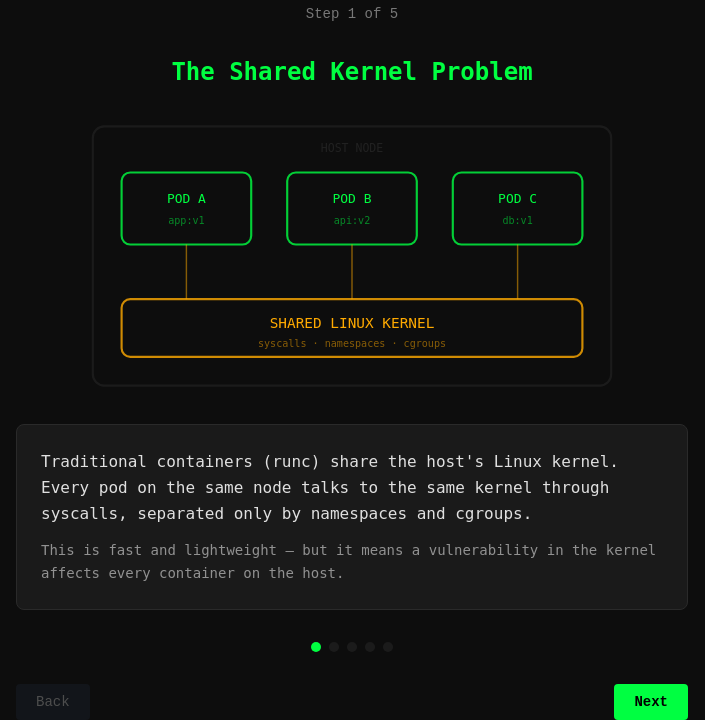
KataDemo page › goes back on Back click
(page scrolled)
Click the button "Next" at coordinates (651, 702), box [614,684,688,719]
(page scrolled)
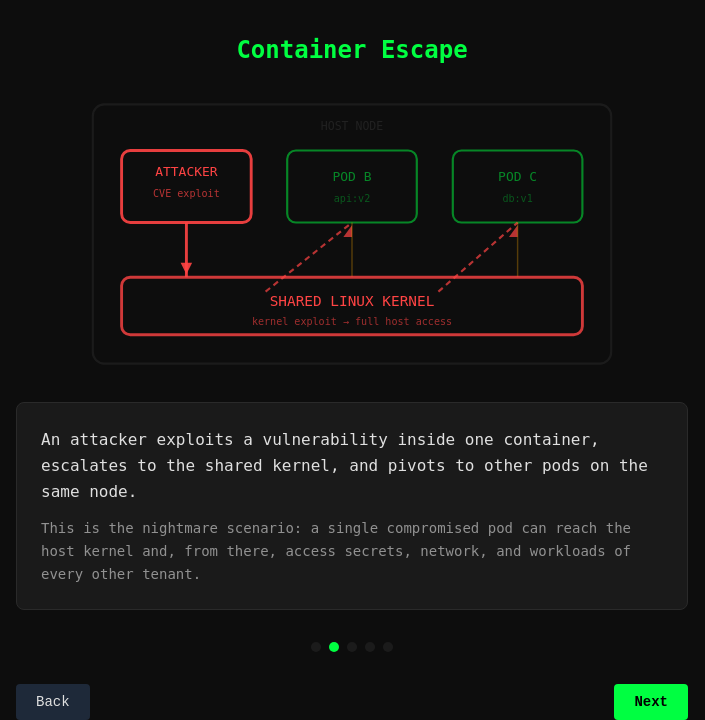
Check: the heading "Container Escape" is shown, box [236,36,468,64]
Click the button "Back" at coordinates (53, 702), box [16,684,90,719]
(page scrolled)
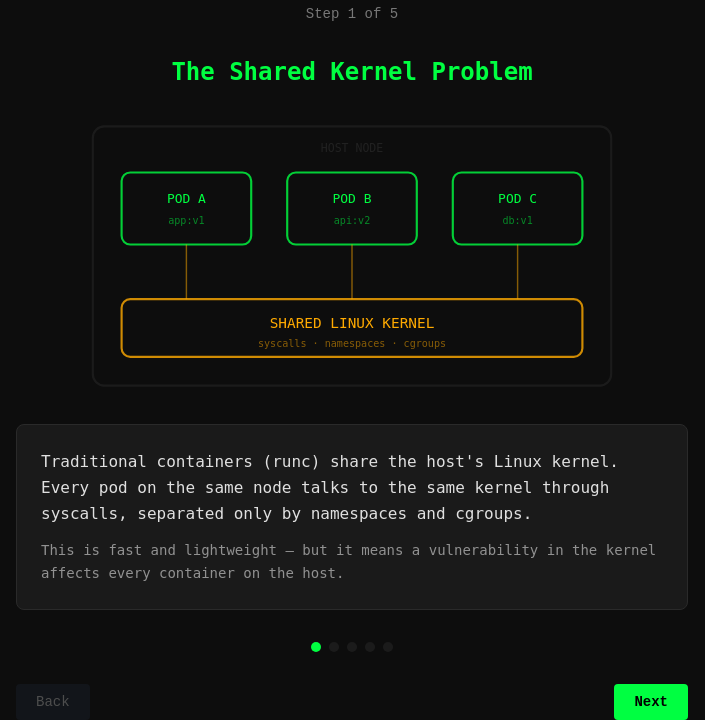
Check: the heading "The Shared Kernel Problem" is shown, box [171,58,533,86]
